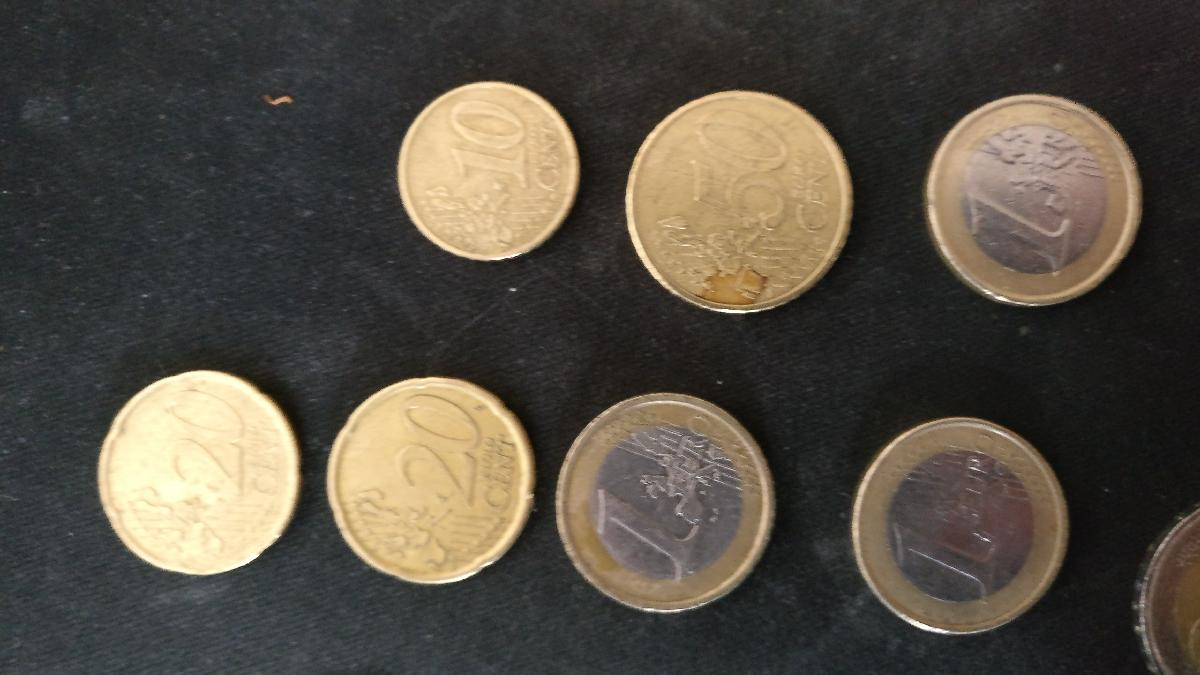Fifty Cent: (624, 90, 857, 310)
One Euro: (552, 389, 777, 609), (920, 97, 1148, 305), (849, 416, 1067, 630)
Ten Cent: (397, 81, 581, 256)
Twenty Cent: (97, 371, 305, 578), (328, 379, 536, 585)
Two Euro: (1132, 497, 1199, 675)
